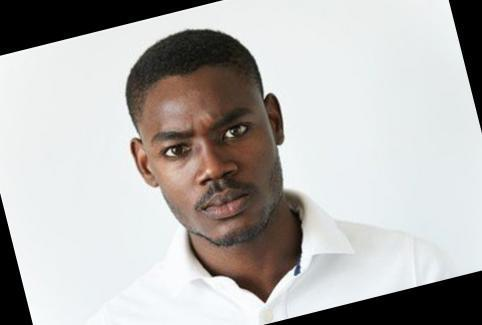Sober: (145, 75, 279, 219)
